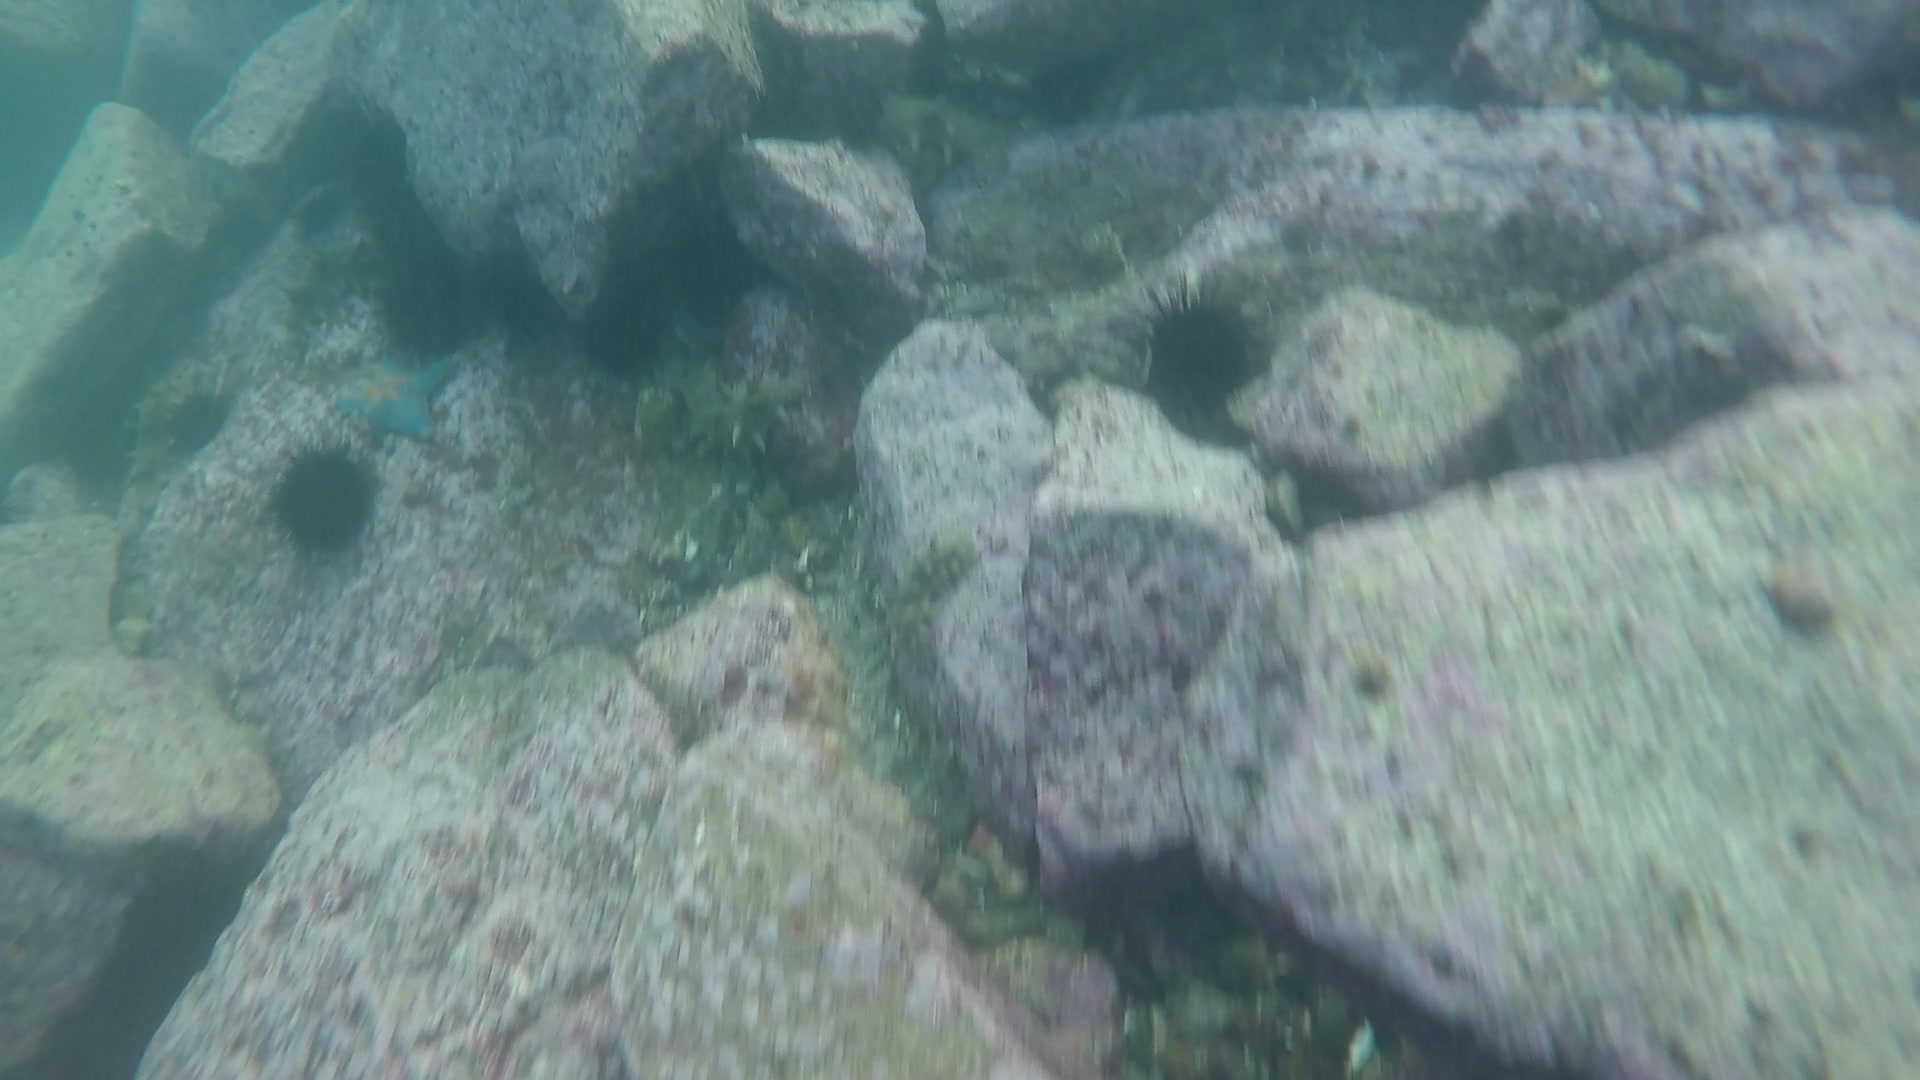echinus: (1130, 286, 1261, 400), (264, 436, 380, 556)
holothurian: (865, 87, 1029, 182), (665, 363, 804, 463), (127, 348, 225, 489), (284, 243, 396, 338)
starfish: (331, 356, 459, 456)
